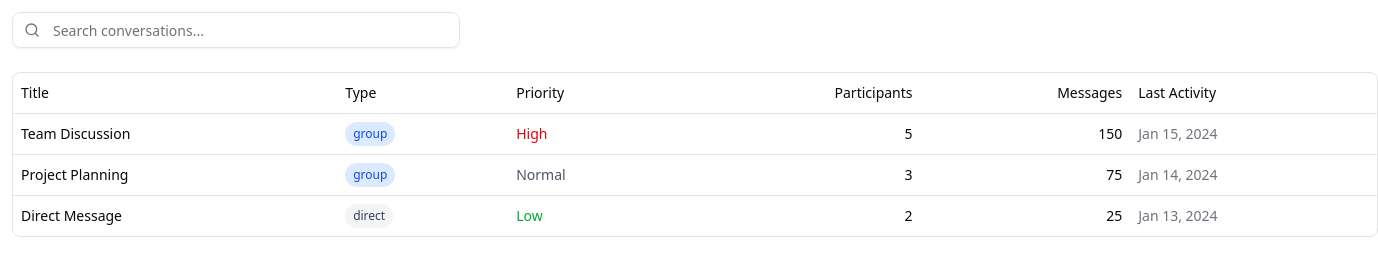
Test: ConversationsPage › shows no results message when no matches found
The width and height of the screenshot is (1378, 254).
Type "nonexistent" into the field with placeholder "Search conversations..." at (236, 30), box [12,12,460,48]
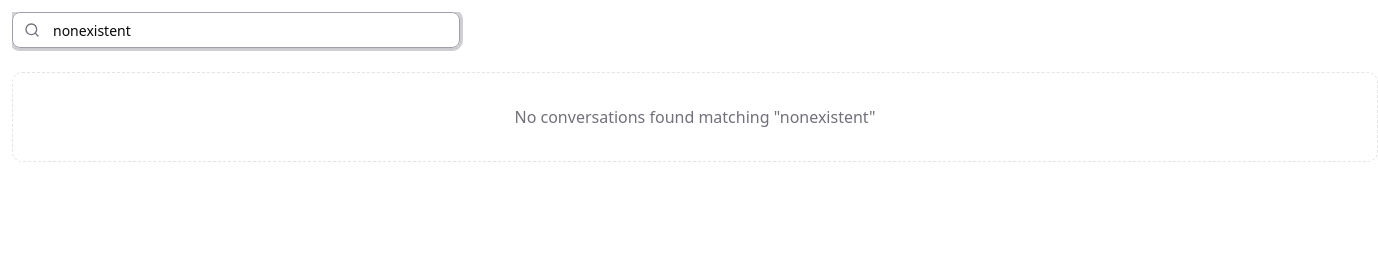
expect the text "No conversations found matching \"nonexistent\"" is shown: met, box [514,106,876,128]
